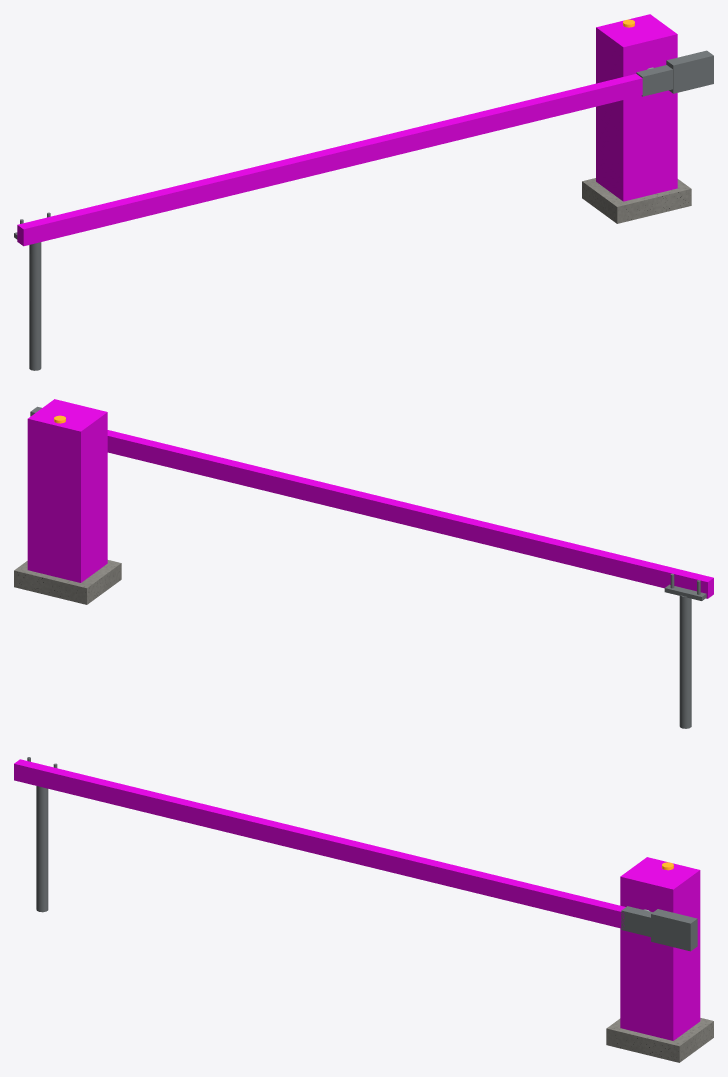
The model's file is EN_Yard_BarrierGate.fbx.
3 views of the same model, one above another, from view 1: azimuth 30°, elevation 25°; view 2: azimuth 150°, elevation 25°; view 3: azimuth 330°, elevation 25° (orthographic).
Parts seen in each view (by area): view 1: COL_Boom, COL_Housing, EN_Yard_BarrierGate_Housing, Boom; view 2: COL_Boom, COL_Housing, EN_Yard_BarrierGate_Housing; view 3: COL_Boom, COL_Housing, EN_Yard_BarrierGate_Housing, Boom.
Part boxes in pixels (x1=…): COL_Boom: x1=17, y1=74, x2=642, y2=246; COL_Housing: x1=596, y1=14, x2=677, y2=201; EN_Yard_BarrierGate_Housing: x1=14, y1=19, x2=691, y2=370; Boom: x1=636, y1=50, x2=713, y2=96; COL_Boom: x1=107, y1=430, x2=713, y2=598; COL_Housing: x1=27, y1=399, x2=107, y2=582; EN_Yard_BarrierGate_Housing: x1=14, y1=415, x2=706, y2=728; COL_Boom: x1=14, y1=759, x2=625, y2=928; COL_Housing: x1=620, y1=857, x2=700, y2=1040; EN_Yard_BarrierGate_Housing: x1=27, y1=757, x2=713, y2=1062; Boom: x1=621, y1=906, x2=697, y2=951.
Bounding box in the file's own units: 5.1 × 1.27 × 0.52.
